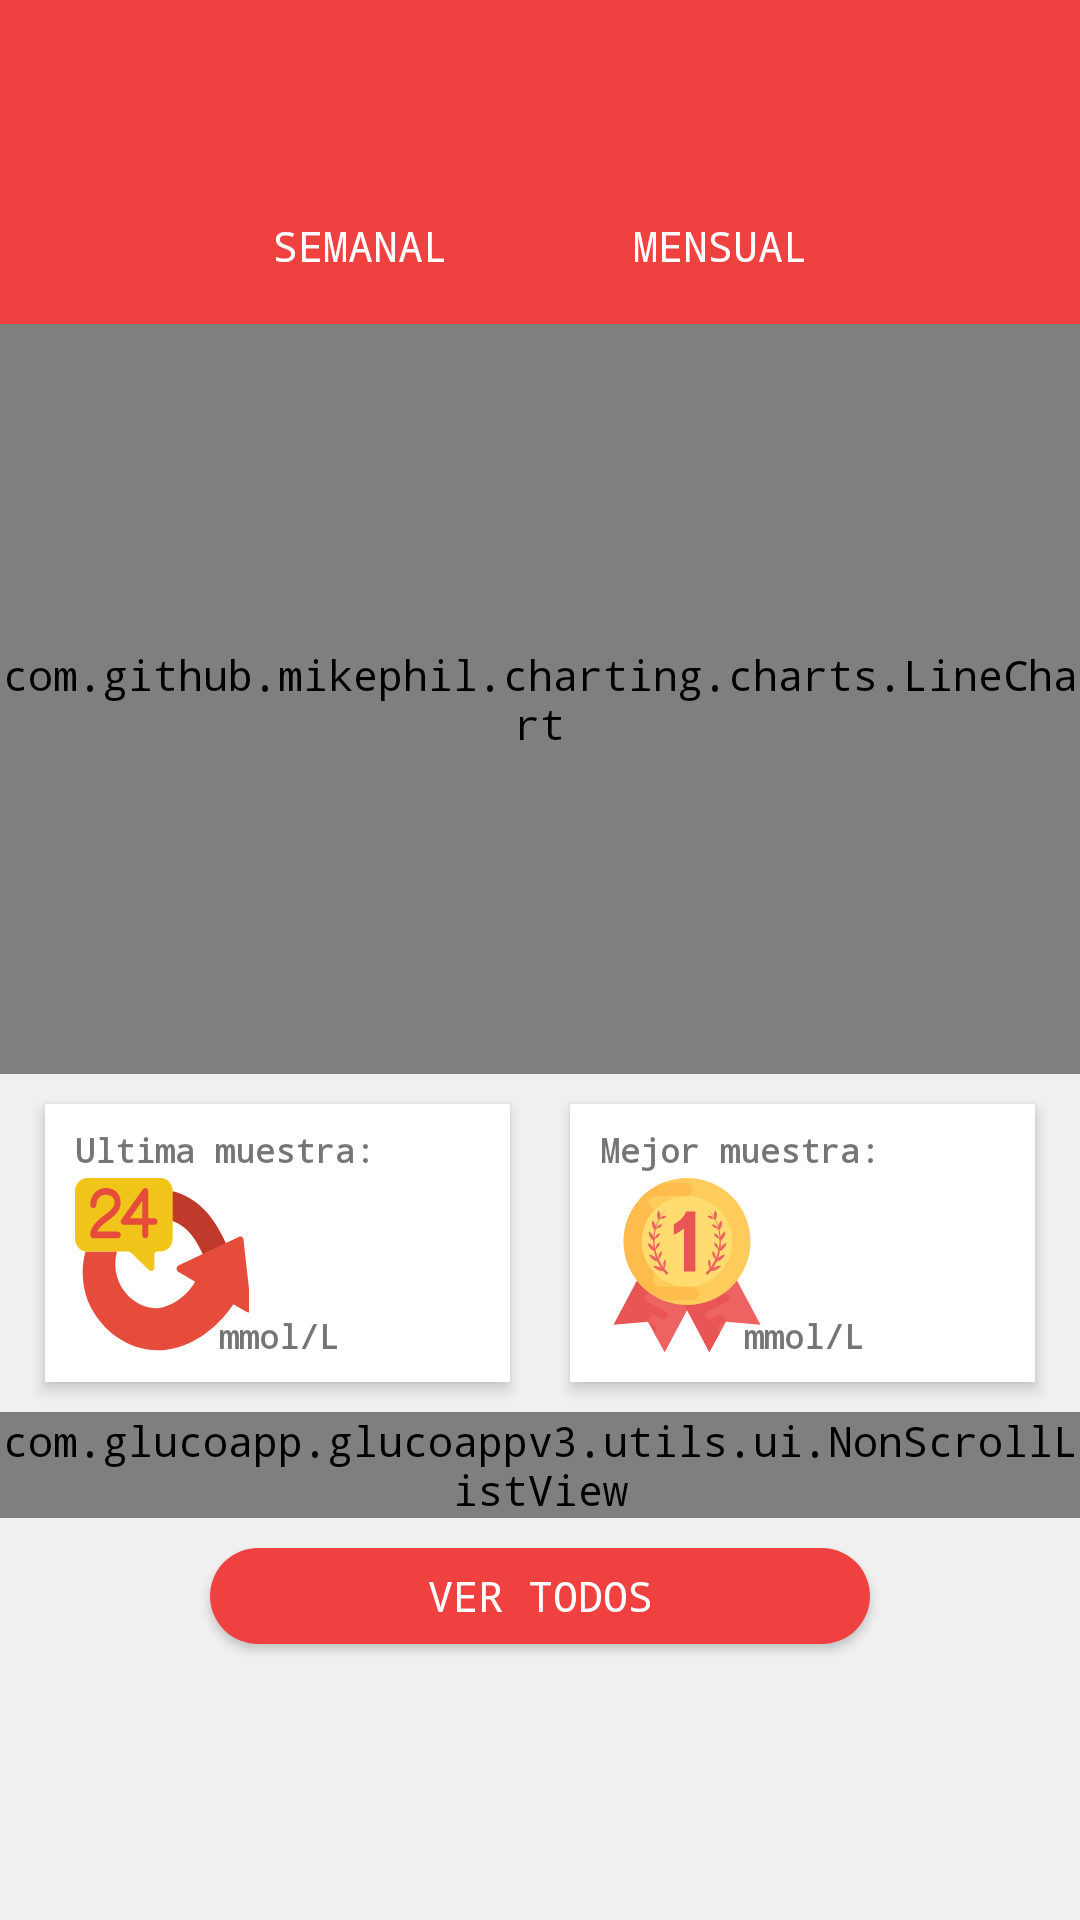

Point at icon controls on the screen. Image size 1080w x 1920h, points as [x,y].
medal: [688,1265]
